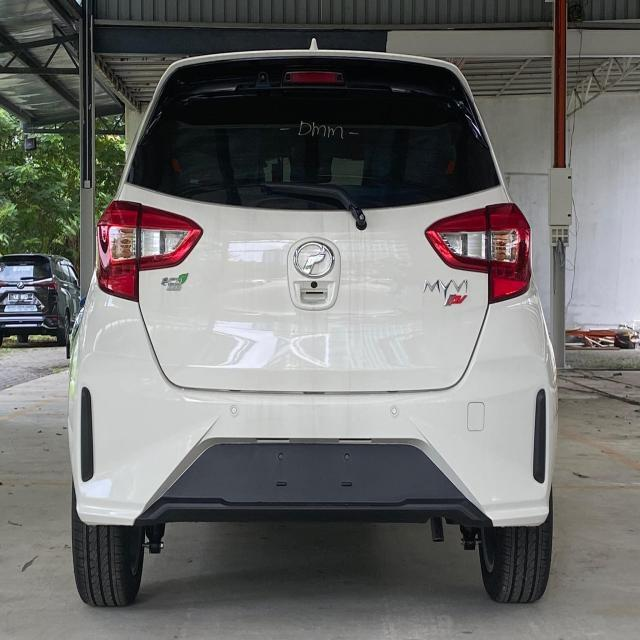PeroduaMyvi: (66, 42, 560, 608)
